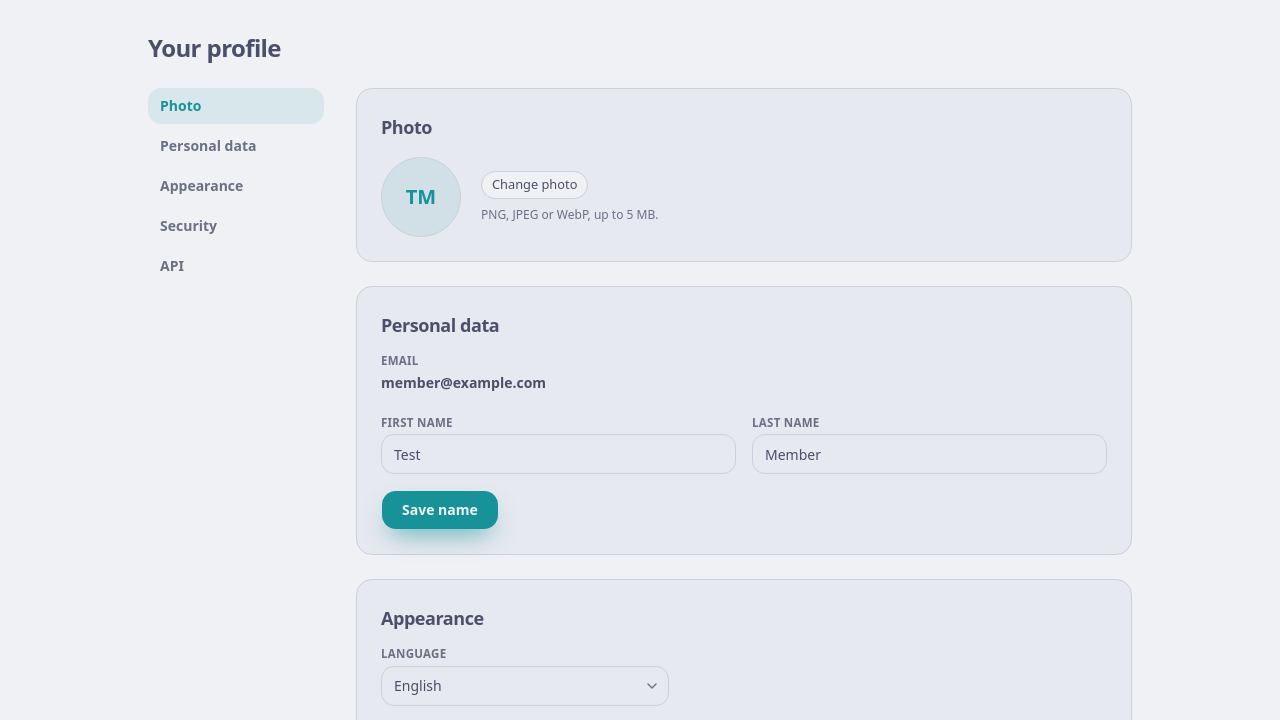
Scenario: Profile › saves a language choice via the language select and applies it
Click the dropdown named "Language": point(418, 685) [381,666,669,706]
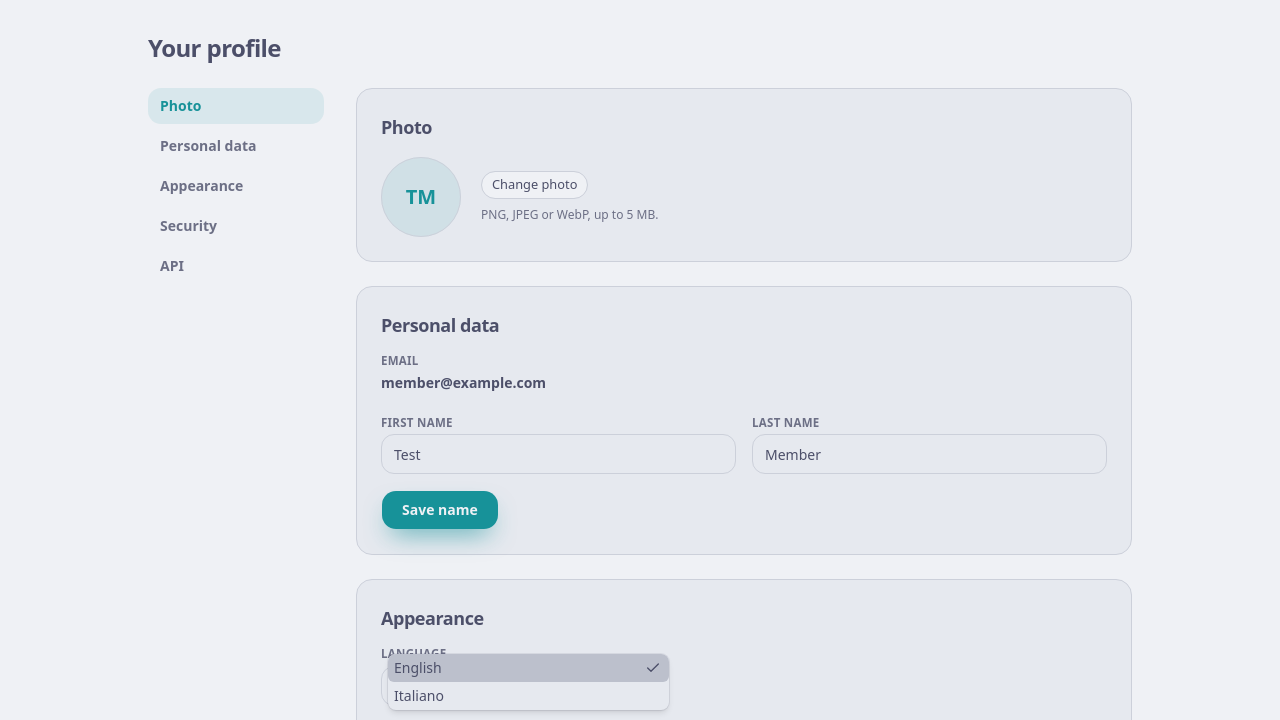
Click the option "Italiano": point(419, 696) [394,686,444,705]
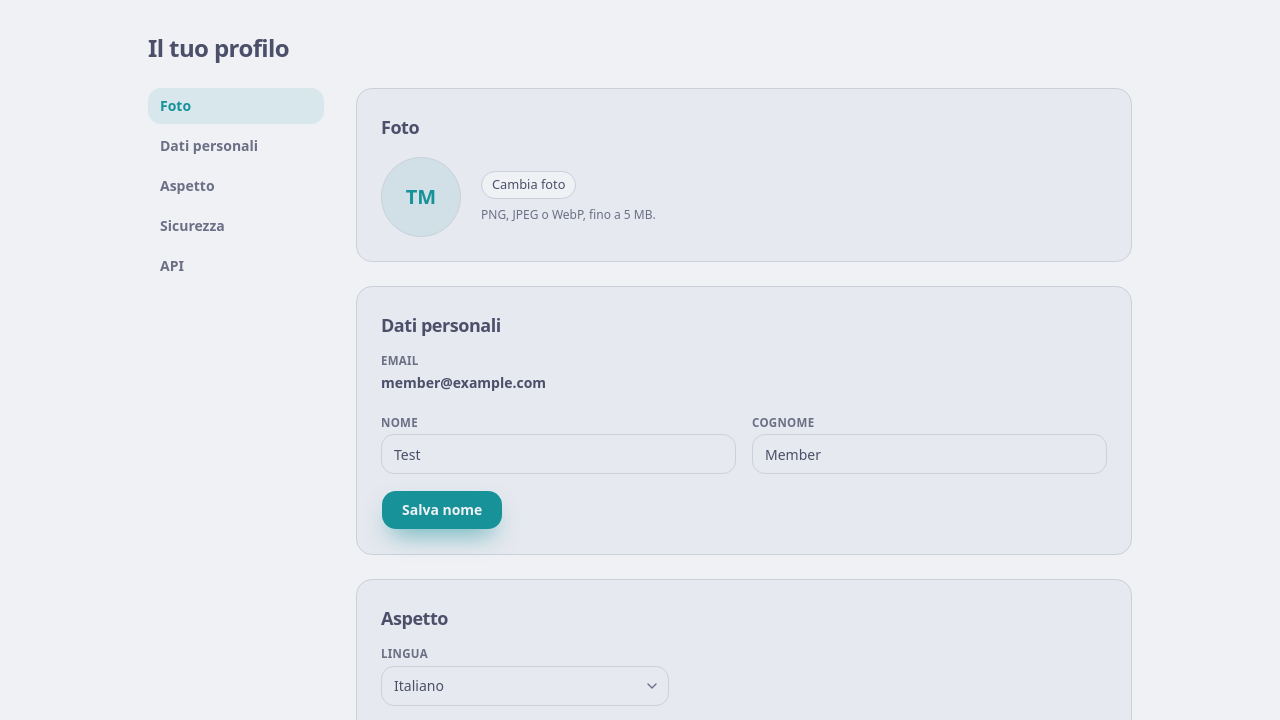
Expected: the heading "Il tuo profilo" is shown, [148,31,289,64]
